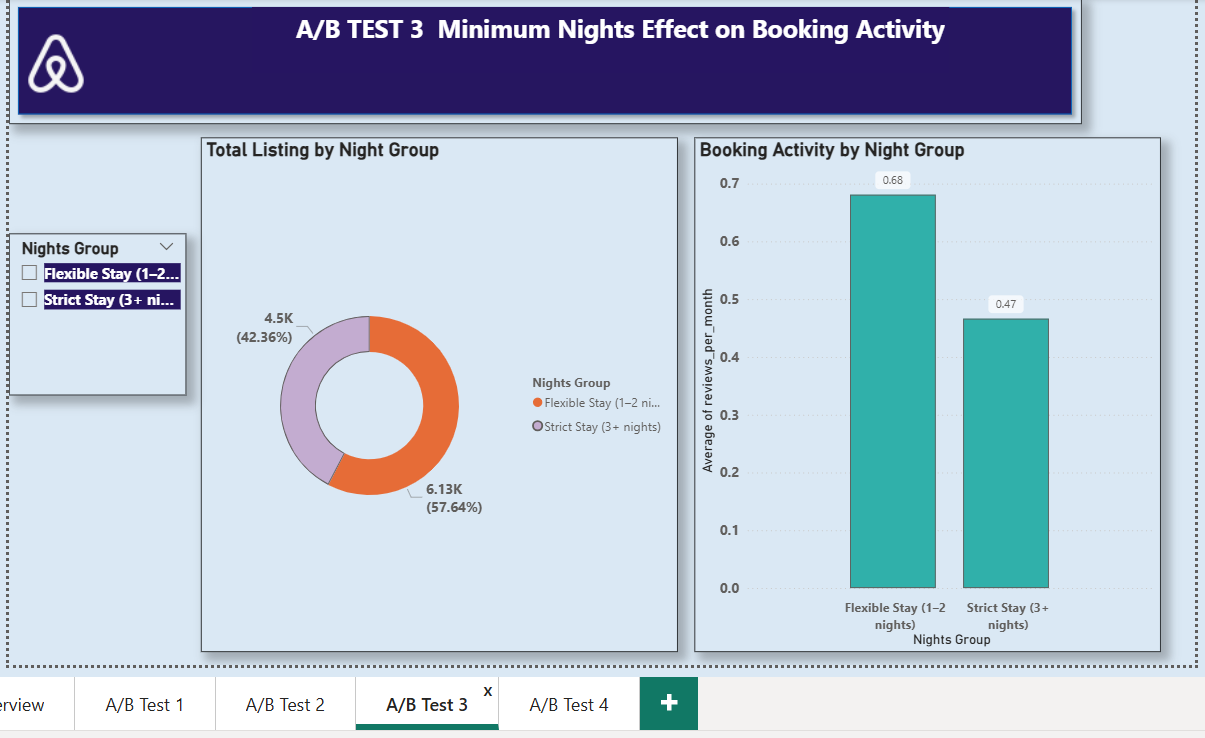

The page's visual inventory and layout, read from the dashboard file:
{"tool":"powerbi","page":{"name":"A/B Test 3","canvas":[1280,720],"ordinal":3},"visuals":[{"type":"shape","box":[0,0,1157.7,136],"z":0},{"type":"image","box":[10,10,81.4,122],"z":1000},{"type":"donutChart","title":"Total Listing by Night Group","fields":{"Category":["cleaned_listing.Nights Group"],"Y":["CountNonNull(cleaned_listing.id)"]},"box":[207.3,150.6,514.9,555.4],"z":2000},{"type":"lineClusteredColumnComboChart","title":"Booking Activity by Night Group","fields":{"Category":["cleaned_listing.Nights Group"],"Y":["Avg(cleaned_listing.reviews_per_month)"]},"box":[740,150.6,503.6,555.4],"z":3000},{"type":"slicer","fields":{"Values":["cleaned_listing.Nights Group"]},"box":[0,254.2,191.1,174.9],"z":4000},{"type":"textbox","box":[262.3,9.7,752.9,71.2],"z":5000}]}

Visuals, with their boxes in screenshot pixels (x1, y1, x2, y2):
shape: [3,0,1078,120]
image: [12,3,88,116]
"Total Listing by Night Group" donutChart: [196,134,674,649]
"Booking Activity by Night Group" lineClusteredColumnComboChart: [690,134,1158,649]
slicer - cleaned_listing.Nights Group: [3,230,181,392]
textbox: [247,3,946,69]
